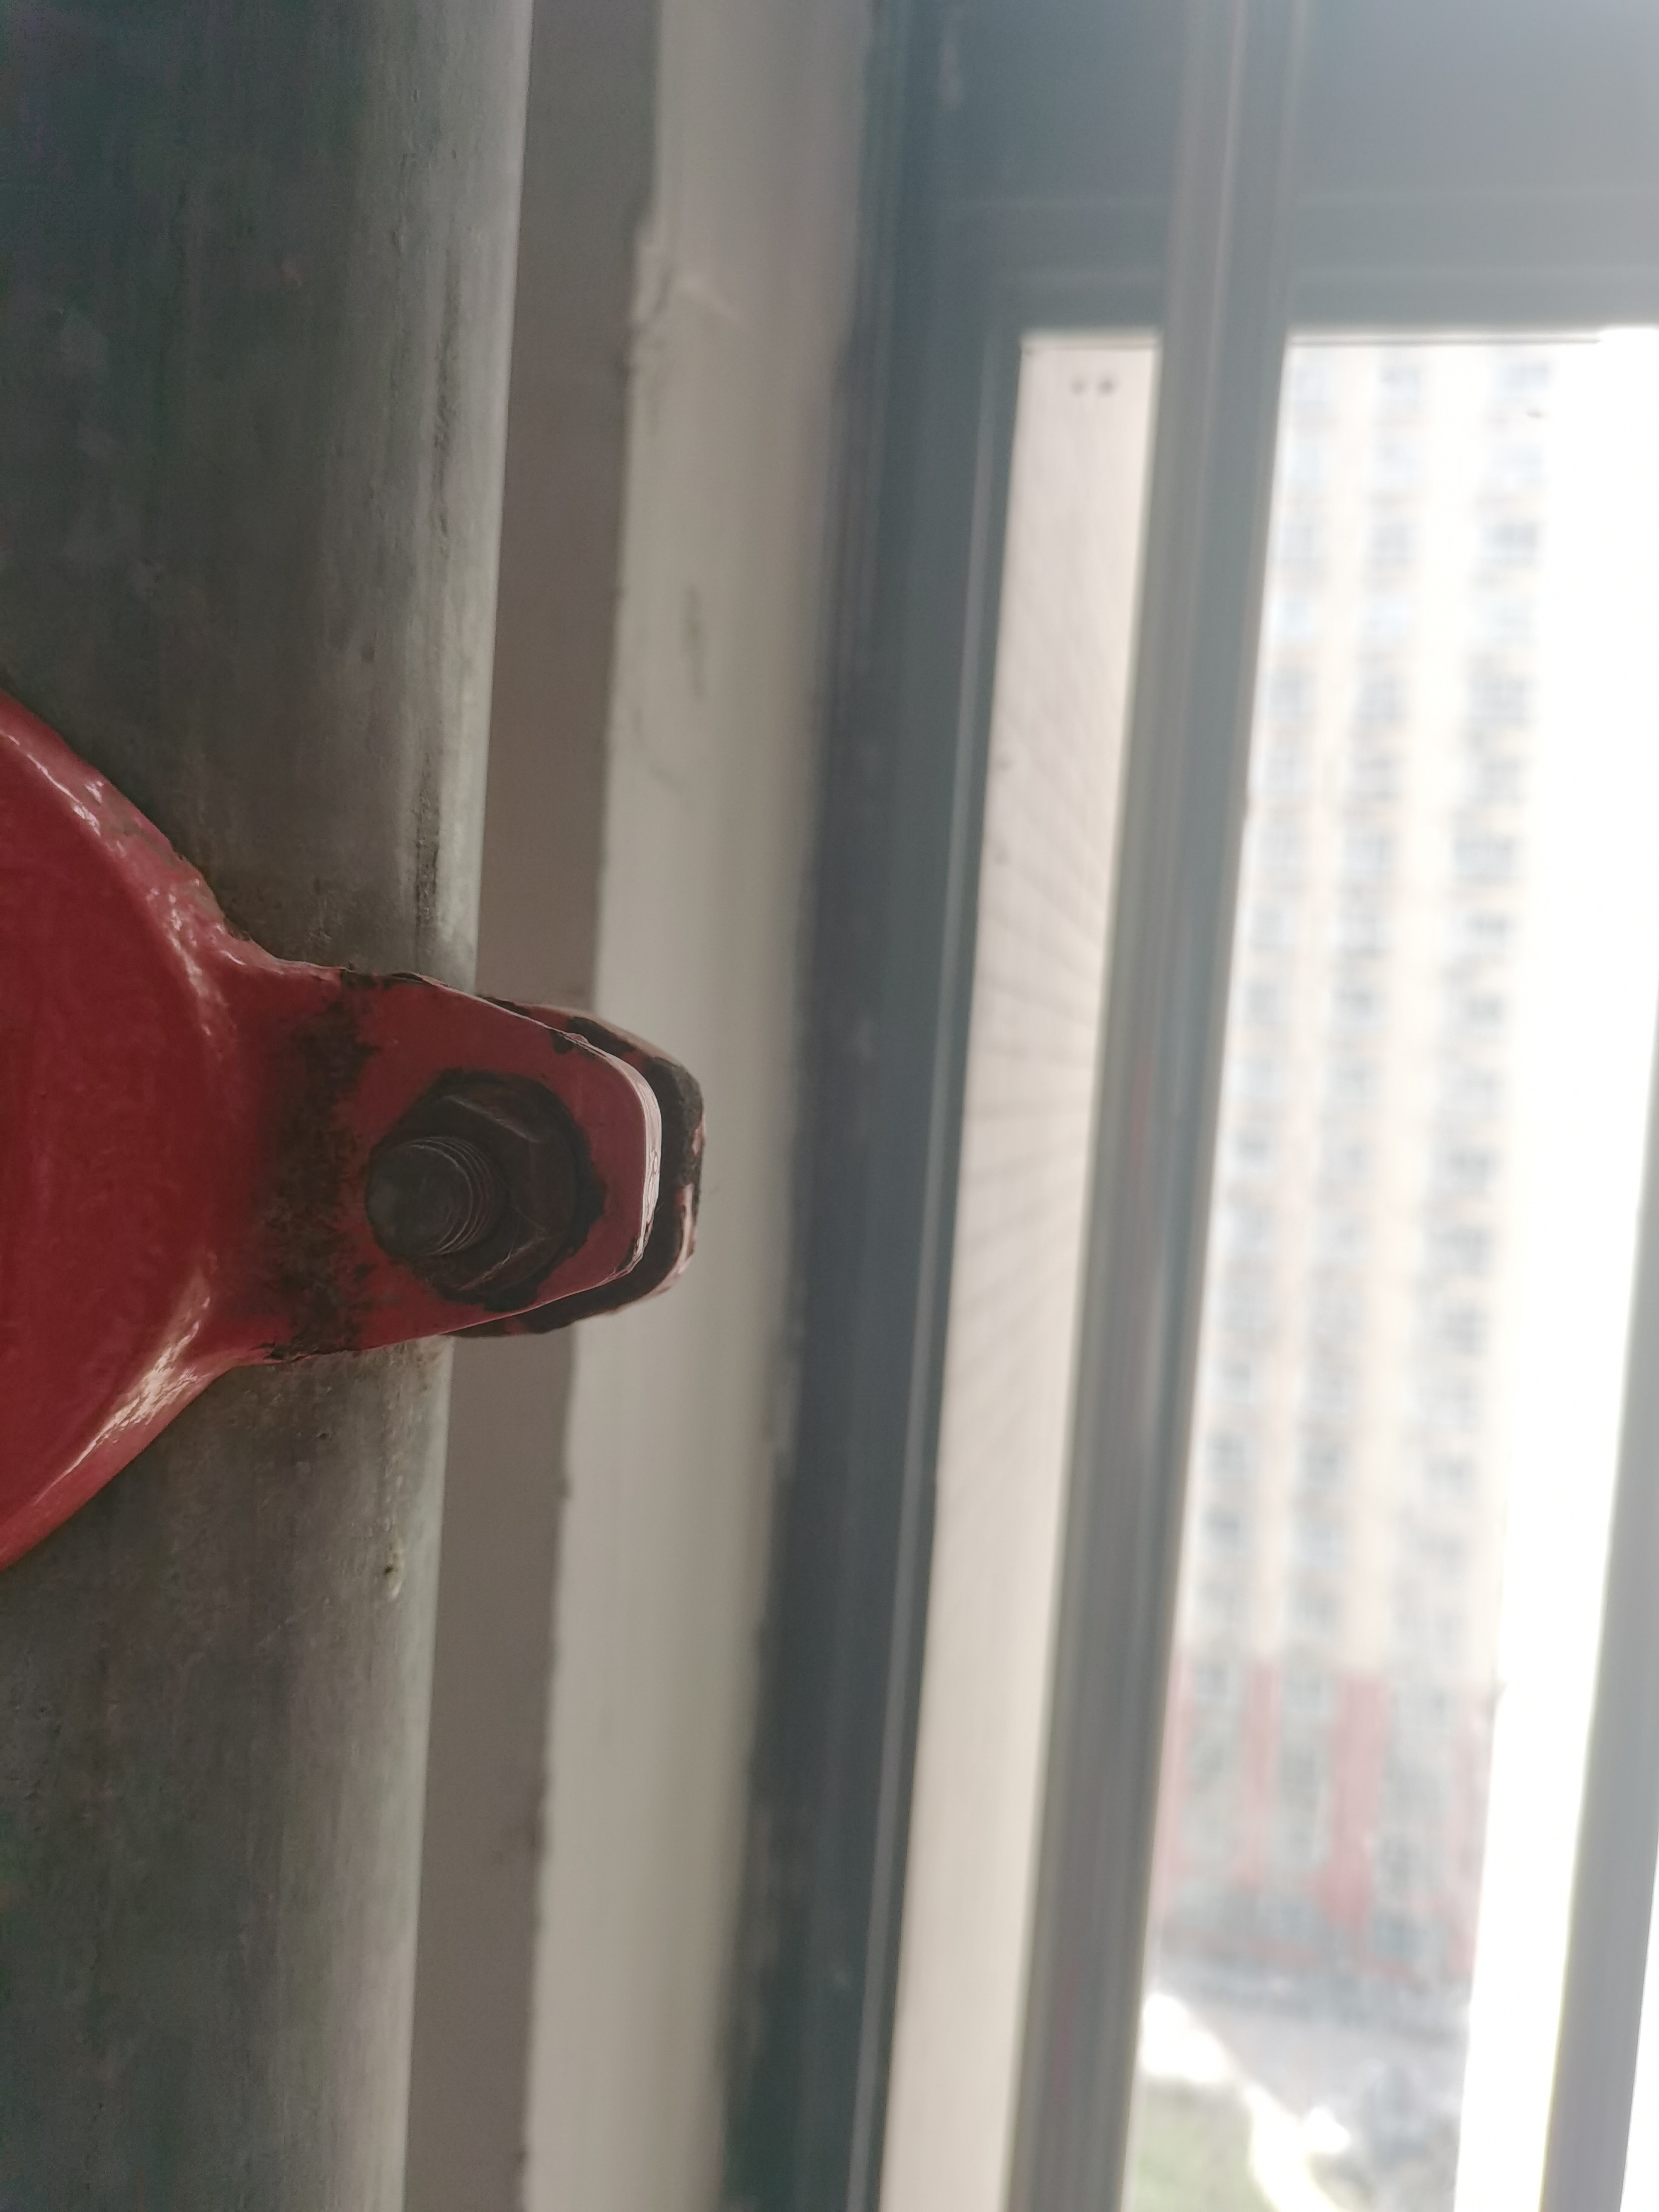bolt_b: (354, 1075, 584, 1312)
